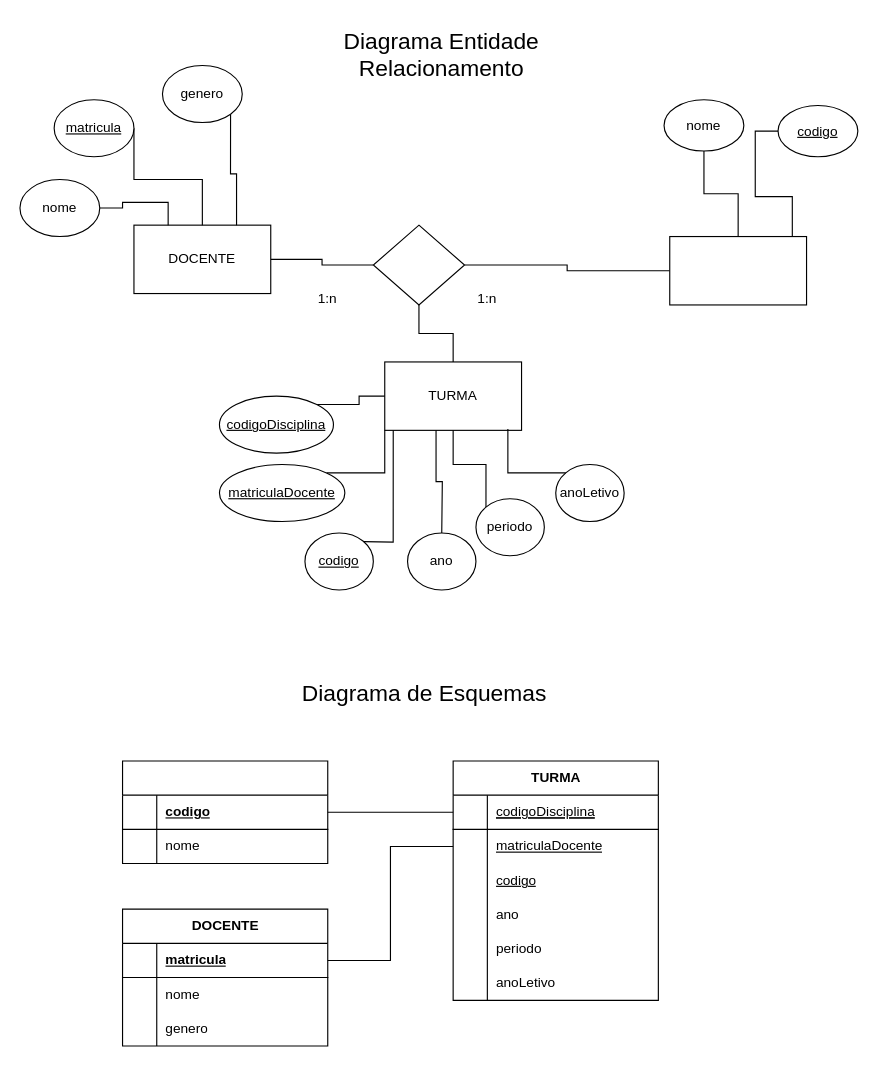
This 878x1066 diagram has some shape labels left out. The shapes that lost their labels are listed below. From the top down, each one's box as (x1, y1, x2, y2) in pixels, then its label:
(372, 224, 465, 305): formam
(669, 235, 807, 305): DISCIPLINAS
(121, 760, 328, 864): DISCIPLINA
